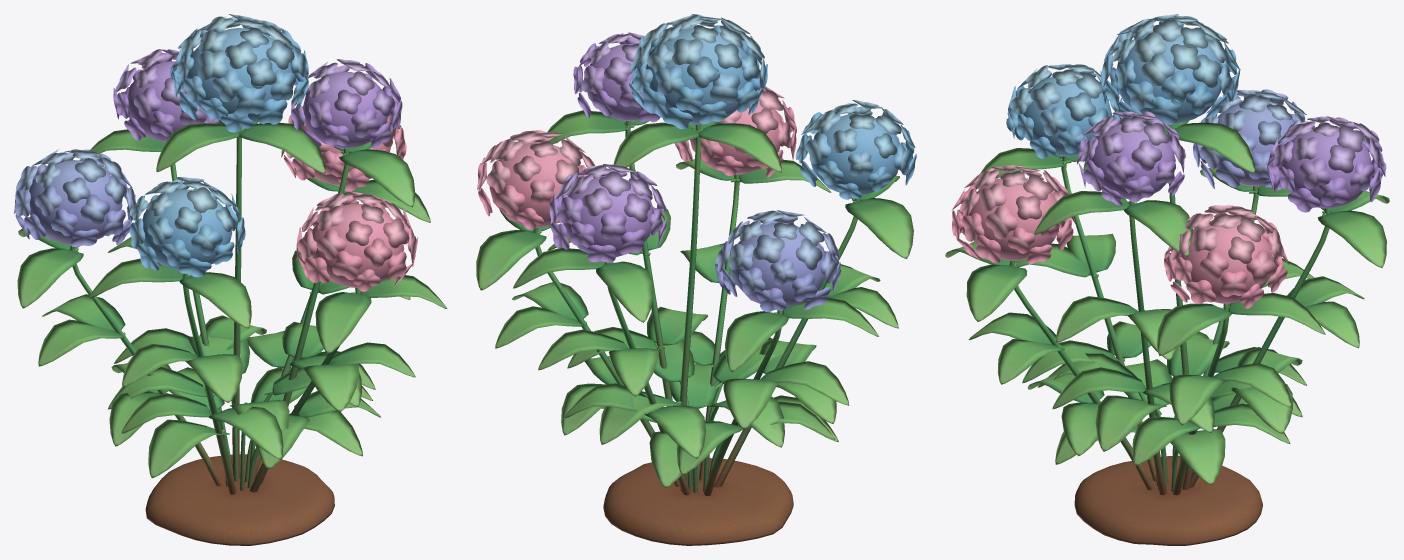
Rendered from hydrangea.glb.
3 views of the same model, side by side, from view 1: azimuth 30°, elevation 25°; view 2: azimuth 150°, elevation 25°; view 3: azimuth 270°, elevation 25° (orthographic).
Visible parts, largest first — view 1: hydrangea.001; view 2: hydrangea.001; view 3: hydrangea.001.
Part boxes in pixels (<box>): hydrangea.001: <box>14,14,447,545</box>; hydrangea.001: <box>476,14,916,545</box>; hydrangea.001: <box>945,14,1389,545</box>.
Bounding box in the file's own units: 0.8388 × 1 × 0.8306.
1 material, 1 textured.
